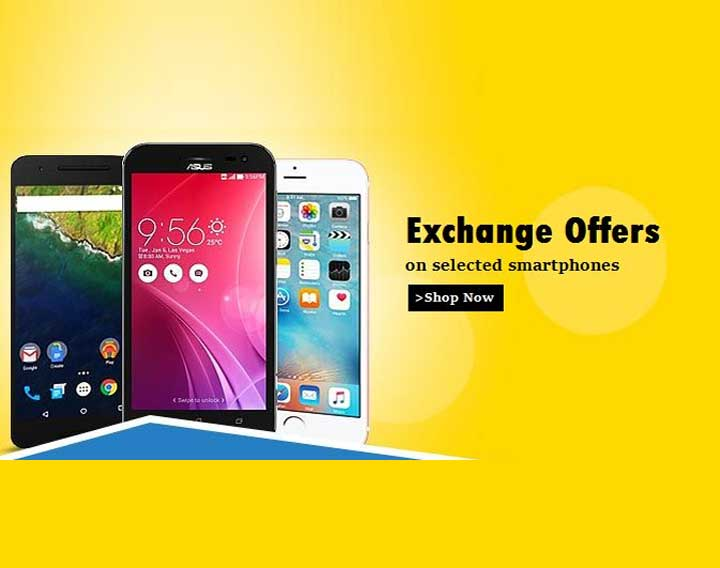mobile: (123, 147, 278, 435)
